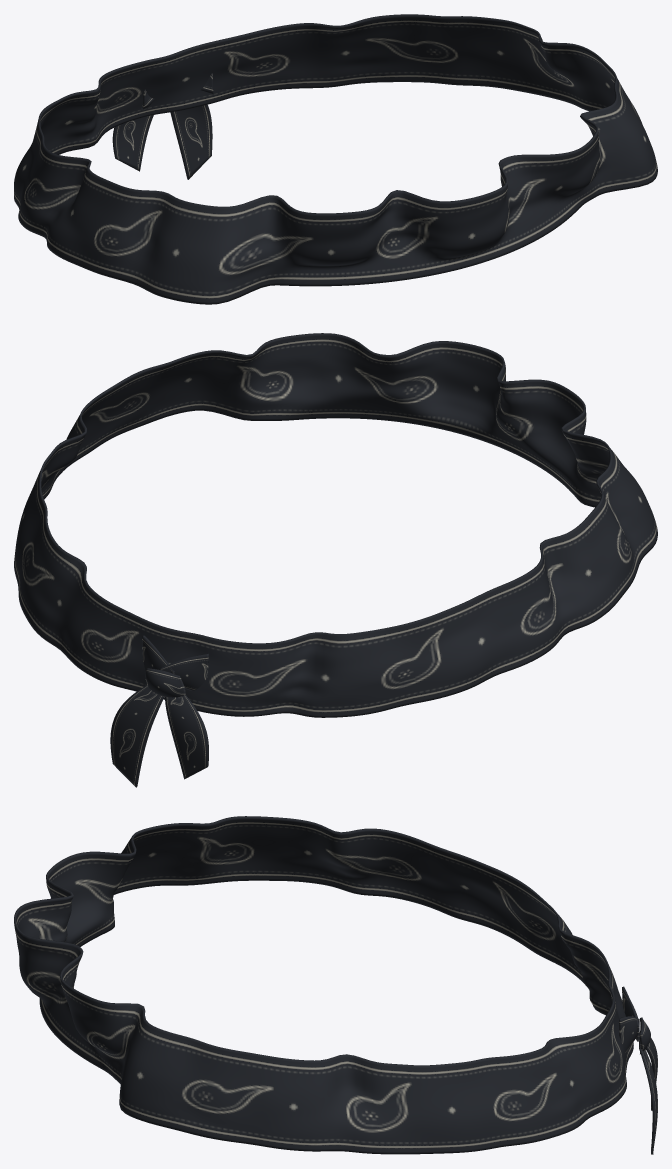
File: Masculine-locs-bandana.glb
3 views of the same model, one above another, from view 1: azimuth 30°, elevation 25°; view 2: azimuth 150°, elevation 25°; view 3: azimuth 270°, elevation 25° (orthographic).
Parts seen in each view (by area): view 1: Bandana / folded wrap, Bandana / hemmed tail 1, Bandana / hemmed tail -1; view 2: Bandana / folded wrap, Bandana / hemmed tail 1, Bandana / hemmed tail -1, Bandana / gathered fold -1, Bandana / rounded knot fold; view 3: Bandana / folded wrap, Bandana / hemmed tail 1, Bandana / gathered fold 1.
Part boxes in pixels (x1=…): Bandana / folded wrap: x1=14, y1=14, x2=657, y2=304; Bandana / hemmed tail 1: x1=170, y1=104, x2=212, y2=179; Bandana / hemmed tail -1: x1=112, y1=115, x2=153, y2=171; Bandana / folded wrap: x1=14, y1=333, x2=657, y2=717; Bandana / hemmed tail 1: x1=110, y1=685, x2=163, y2=787; Bandana / hemmed tail -1: x1=165, y1=695, x2=208, y2=779; Bandana / gathered fold -1: x1=160, y1=653, x2=208, y2=690; Bandana / rounded knot fold: x1=145, y1=668, x2=185, y2=697; Bandana / folded wrap: x1=14, y1=816, x2=633, y2=1154; Bandana / hemmed tail 1: x1=639, y1=1040, x2=657, y2=1154; Bandana / gathered fold 1: x1=619, y1=1016, x2=639, y2=1053.
Size of the model in its own units: 0.8951 by 0.34 by 0.8907.
Materials: 1 (1 with a texture image).
